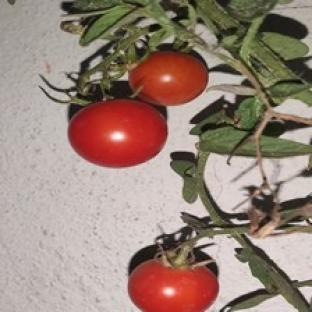Tomato: (69, 99, 167, 167), (129, 260, 218, 311), (129, 52, 208, 105)
